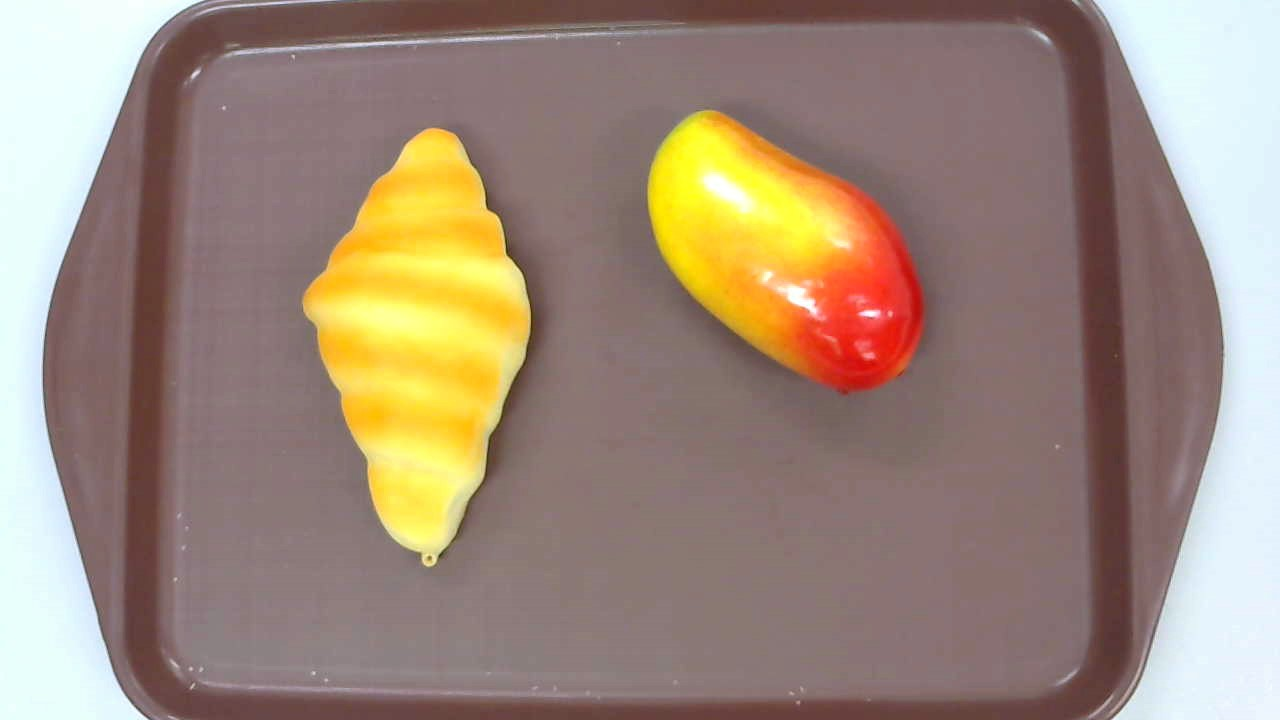croissant: (302, 128, 531, 571)
red mango: (646, 109, 926, 396)
